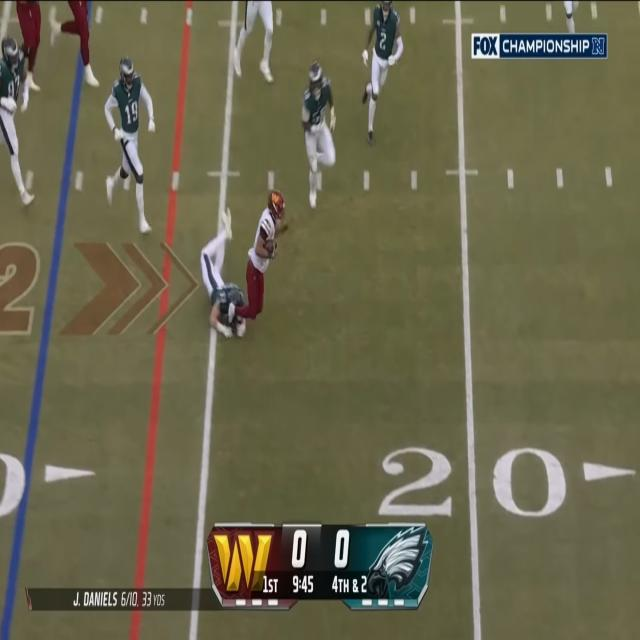Ball: (259, 238, 279, 257)
